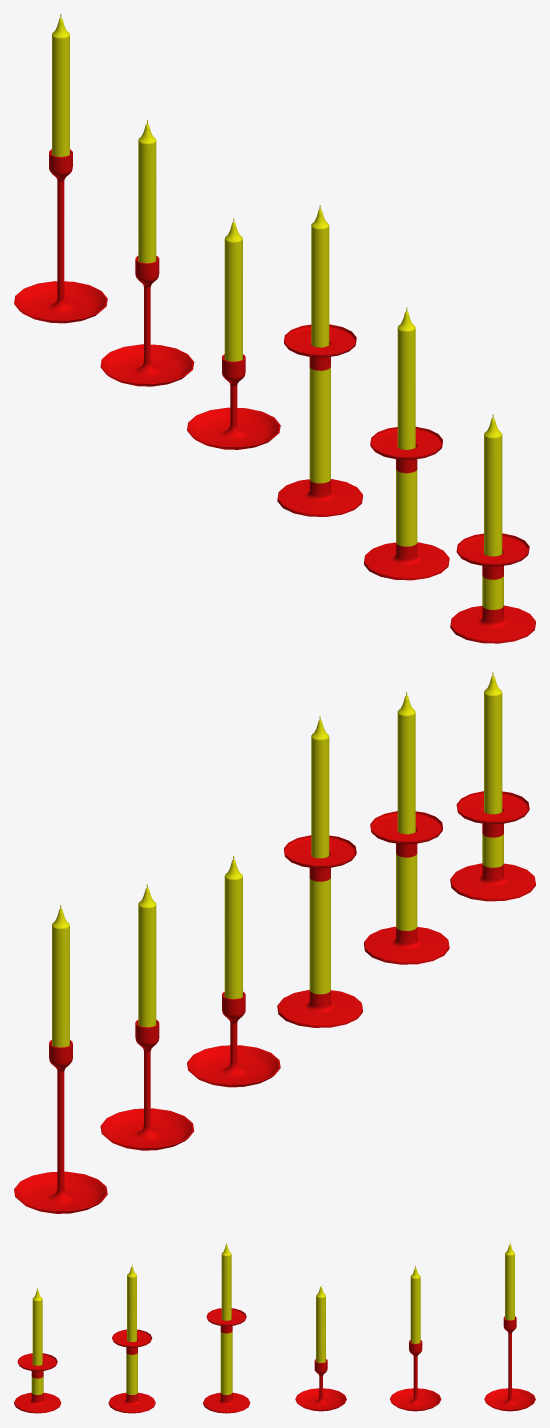
File: thorkea_candles_grp.fbx
The picture shows the model from 3 angles, top to bottom: view 1: azimuth 30°, elevation 25°; view 2: azimuth 150°, elevation 25°; view 3: azimuth 270°, elevation 25°; orthographic projection. The views are drawn at different scales.
Visible parts, largest first — view 1: thorkea_candle_glittrig_3, thorkea_candle_glittrig_2, thorkea_candle_glittrig_1, thorkea_candle_fulltalig_3, thorkea_candle_fulltalig_2, thorkea_candle_fulltalig_1; view 2: thorkea_candle_glittrig_3, thorkea_candle_glittrig_2, thorkea_candle_glittrig_1, thorkea_candle_fulltalig_3, thorkea_candle_fulltalig_2, thorkea_candle_fulltalig_1; view 3: thorkea_candle_glittrig_3, thorkea_candle_glittrig_2, thorkea_candle_glittrig_1, thorkea_candle_fulltalig_3, thorkea_candle_fulltalig_2, thorkea_candle_fulltalig_1.
Part boxes in pixels (x1,y1,x2,y2): thorkea_candle_glittrig_3: (277,205,362,516); thorkea_candle_glittrig_2: (364,307,449,580); thorkea_candle_glittrig_1: (450,414,535,643); thorkea_candle_fulltalig_3: (14,14,107,323); thorkea_candle_fulltalig_2: (100,120,194,386); thorkea_candle_fulltalig_1: (187,218,280,449); thorkea_candle_glittrig_3: (277,716,362,1027); thorkea_candle_glittrig_2: (364,692,449,964); thorkea_candle_glittrig_1: (450,672,535,901); thorkea_candle_fulltalig_3: (14,905,107,1213); thorkea_candle_fulltalig_2: (100,884,194,1150); thorkea_candle_fulltalig_1: (187,856,280,1087); thorkea_candle_glittrig_3: (203,1243,250,1413); thorkea_candle_glittrig_2: (108,1264,155,1413); thorkea_candle_glittrig_1: (14,1288,61,1413); thorkea_candle_fulltalig_3: (484,1242,535,1411); thorkea_candle_fulltalig_2: (390,1265,441,1411); thorkea_candle_fulltalig_1: (295,1285,346,1411).
Size of the model in its own units: 10.95 by 37.6 by 110.
